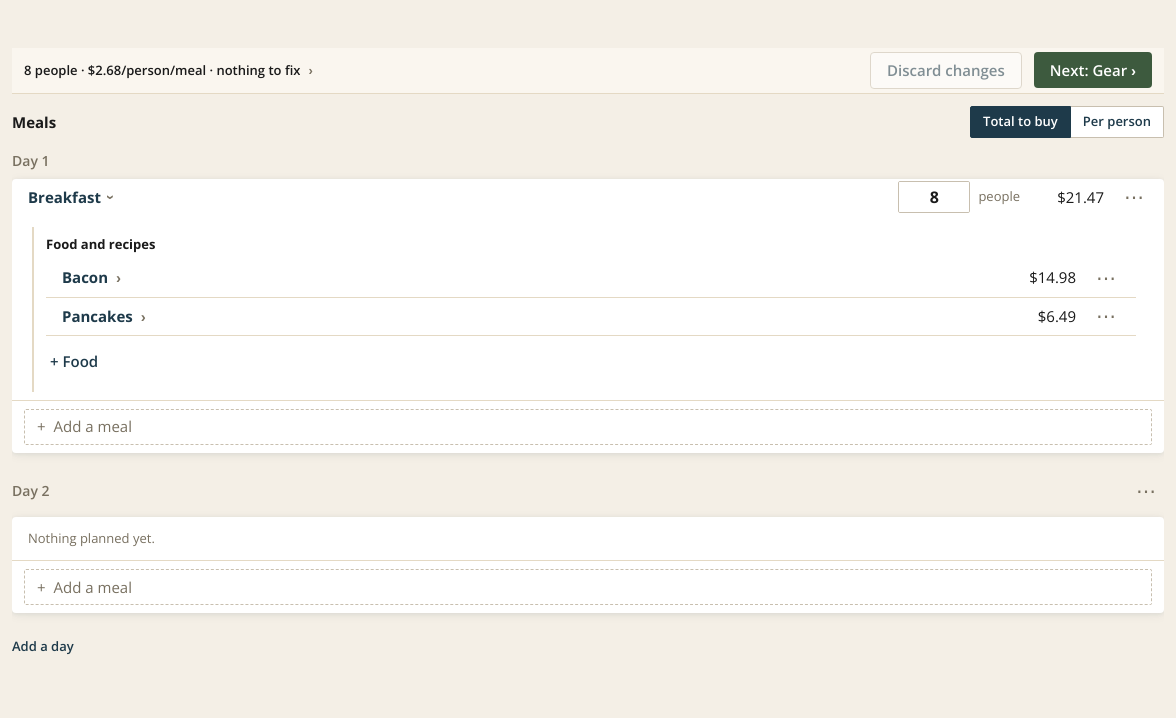
Test: Plan tab — brands › AnIngredientWithBrands_ReadsAnyBrand_WithChooseBrands
Click the button "Bacon ›" at (92, 278), box top-left (62, 266), bottom-right (121, 289)
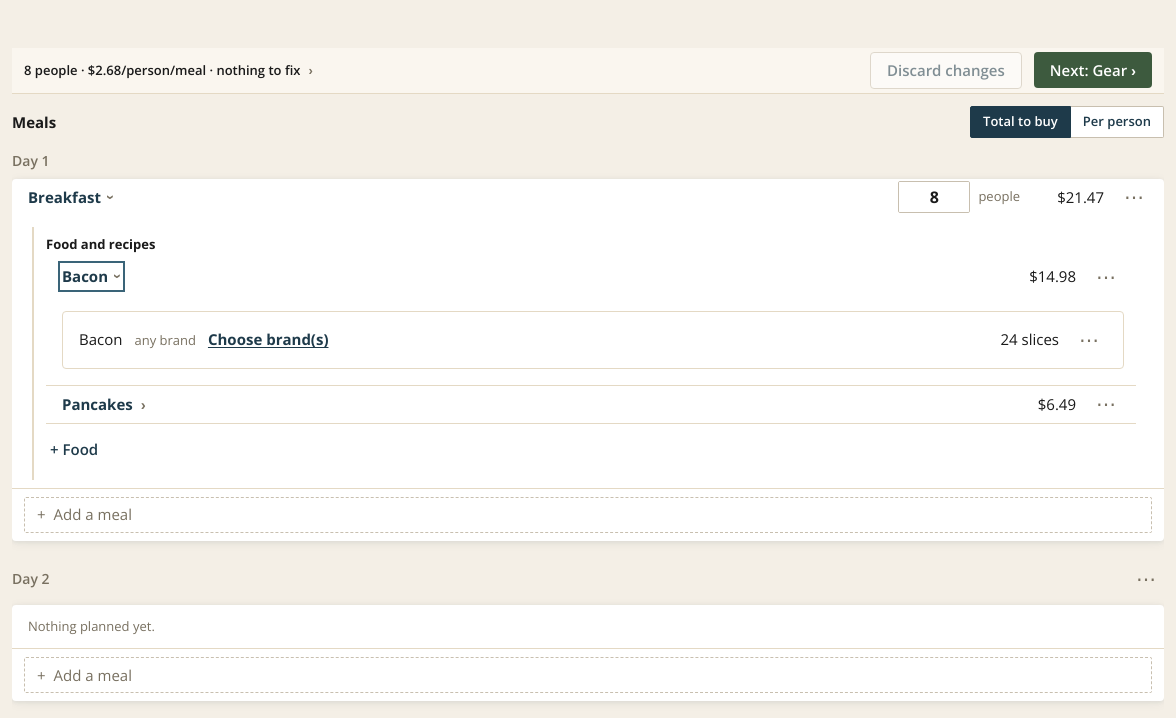
Check: the text "any brand" is shown, box top-left (134, 331), bottom-right (196, 351)
Check: the button with aria-label "Choose brand(s) for Bacon" reads "Choose brand(s)", box top-left (208, 328), bottom-right (328, 351)
